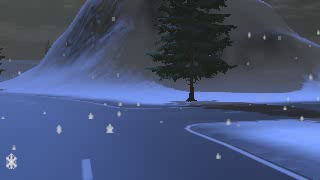Lane: (0, 93, 318, 179)
